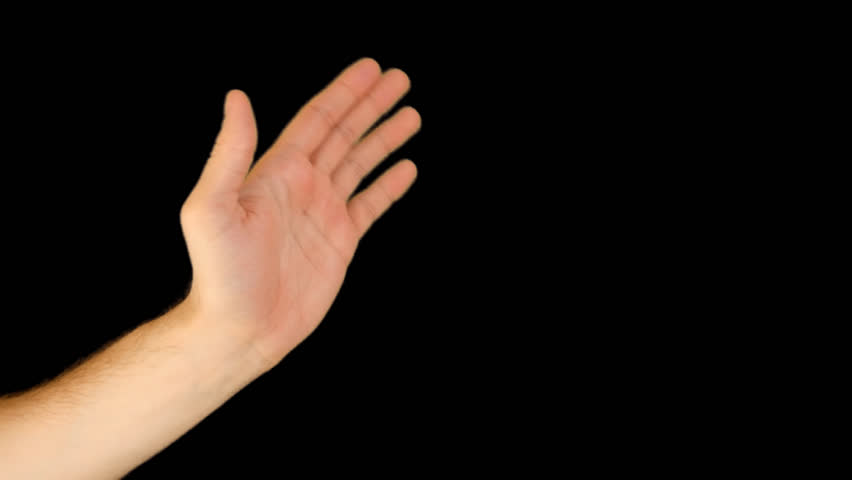open_hand: (161, 24, 440, 350)
